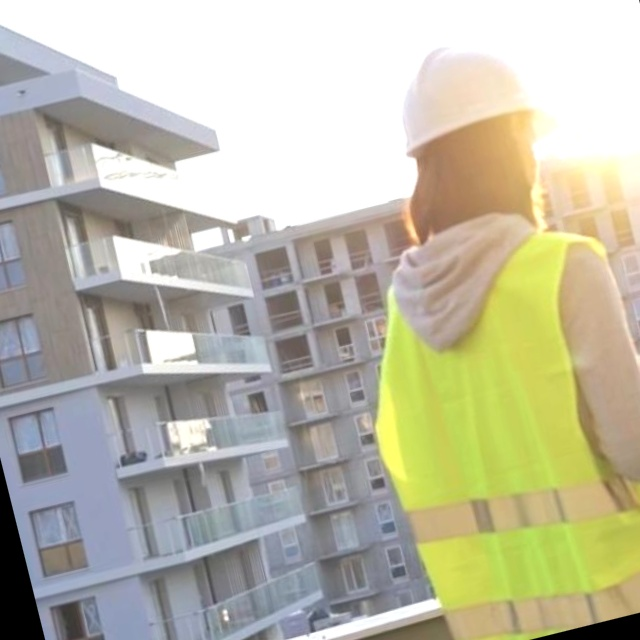Con_Casco: (382, 26, 578, 228)
Con_Chaleco: (328, 183, 640, 640)
